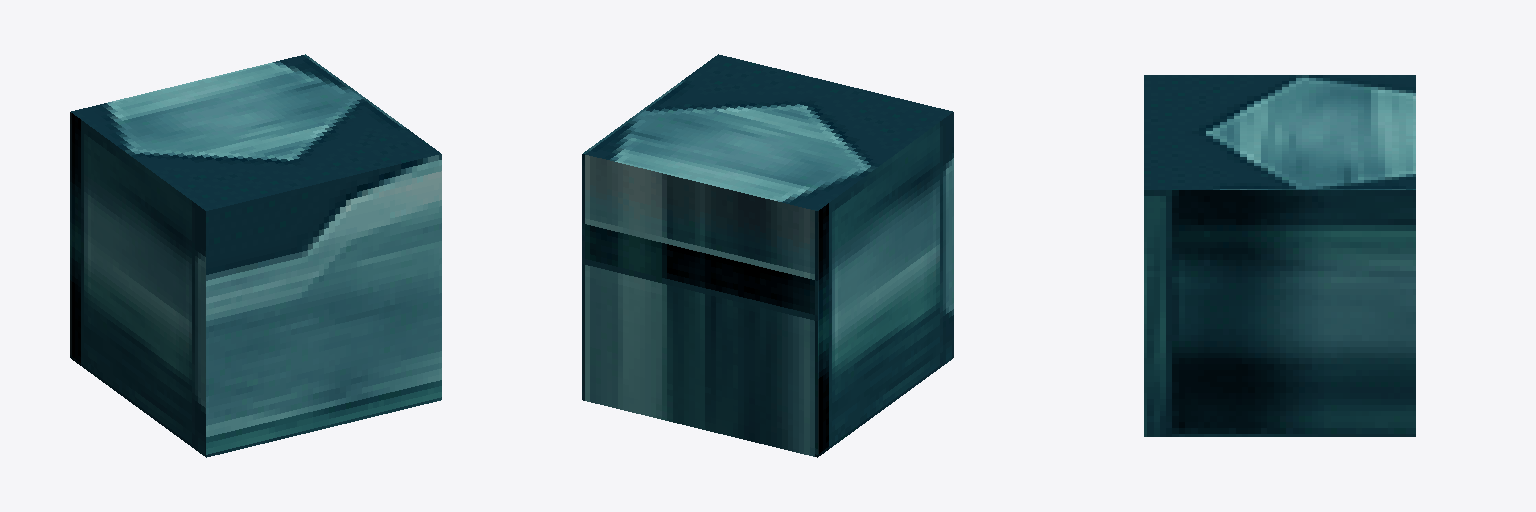
3 views of the same model, side by side, from view 1: azimuth 30°, elevation 25°; view 2: azimuth 150°, elevation 25°; view 3: azimuth 270°, elevation 25° (orthographic).
Visible parts, largest first — view 1: map; view 2: map; view 3: map.
Part boxes in pixels (left/top/right/bottom): map: left=70, top=54, right=441, bottom=457; map: left=582, top=54, right=953, bottom=457; map: left=1144, top=75, right=1415, bottom=436.
Bounding box in the file's own units: 100 × 100 × 100.
1 materials, 1 textured.